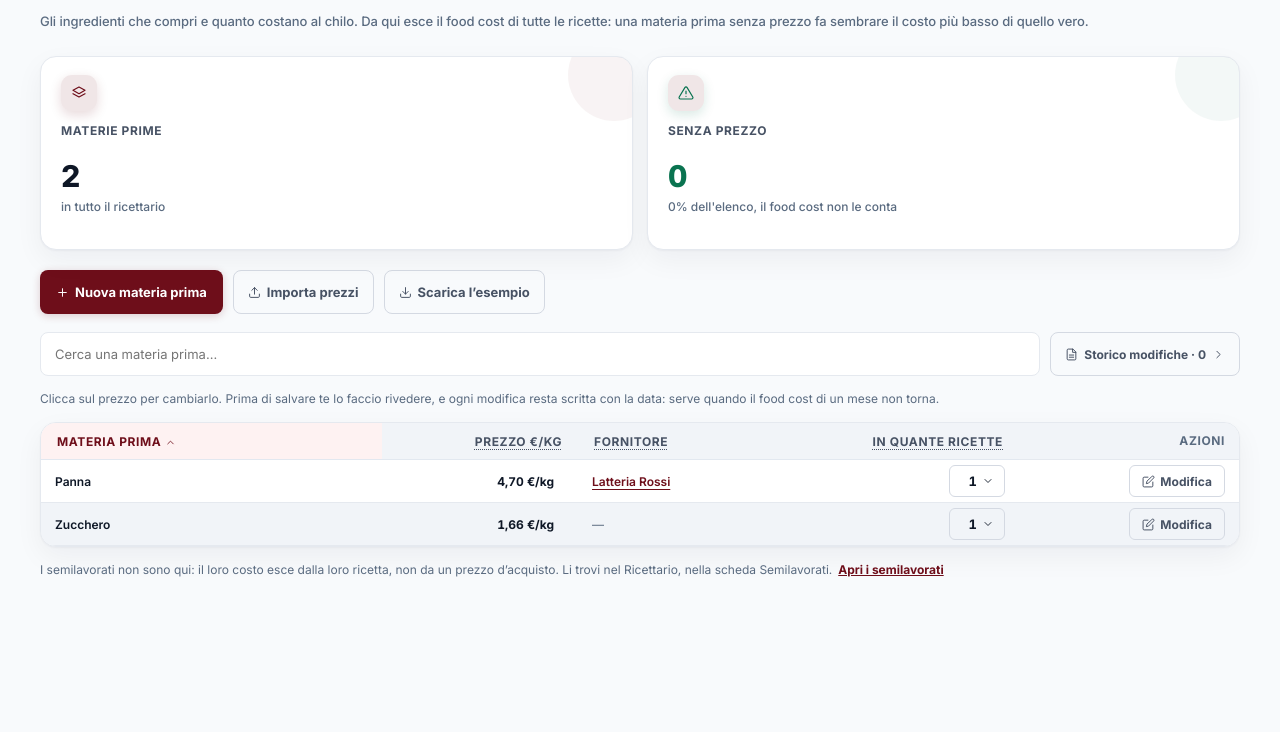
Test case: Il fornitore si vede e si scrive › premendo «Modifica» si può scriverlo
The image size is (1280, 732).
What coordinates should you click on to do the following:
click the button "Modifica" in the row of "Panna"
I would click on:
 (1177, 481)
Its box is [1129,465,1225,497].
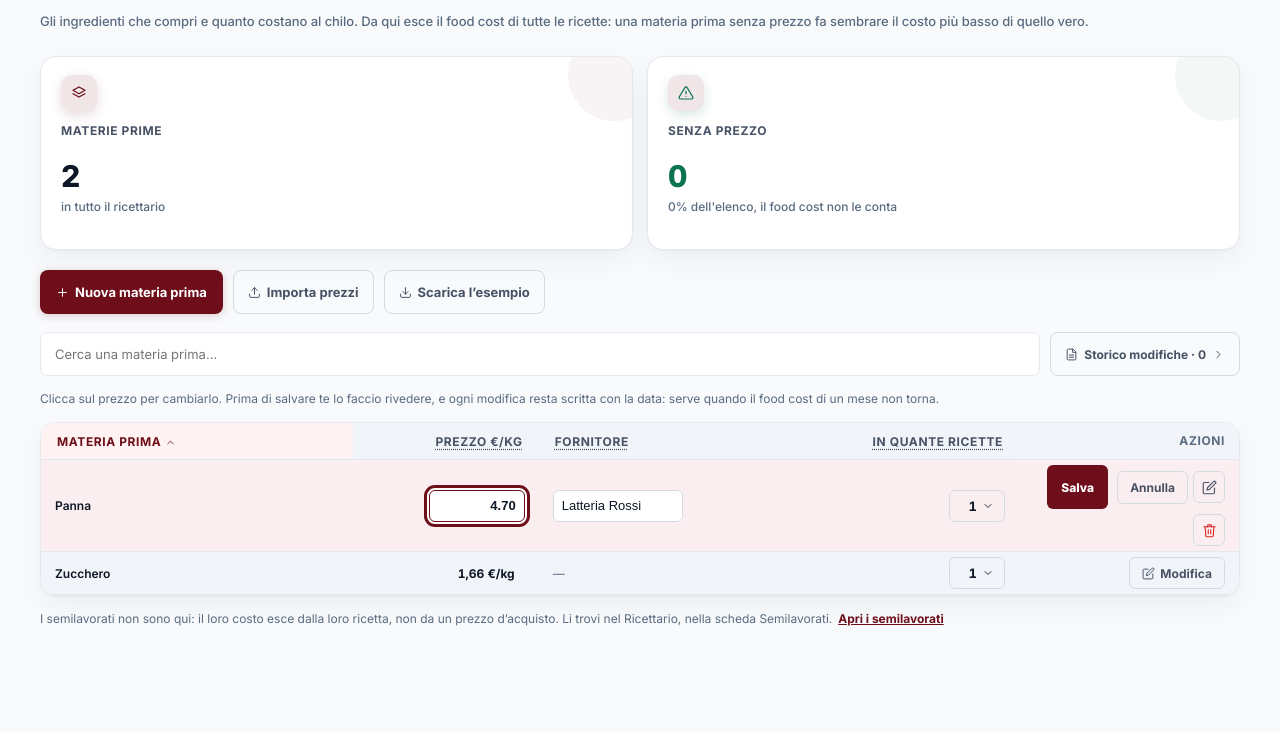
Result: the field named "Fornitore di " is shown at [553,490,683,522]
